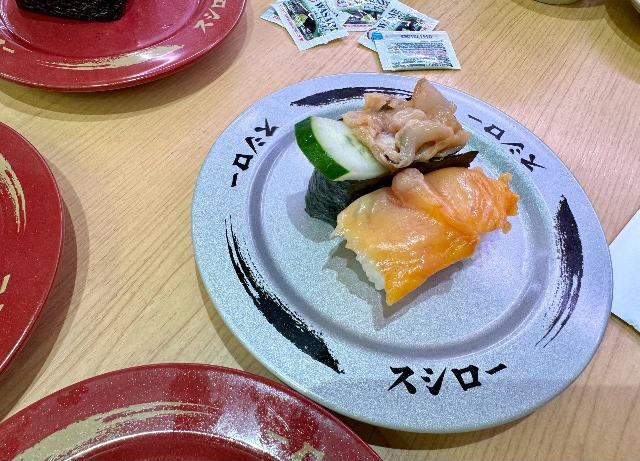janwhite: (292, 291, 559, 433), (173, 110, 294, 372), (509, 117, 613, 371), (262, 72, 361, 112)
